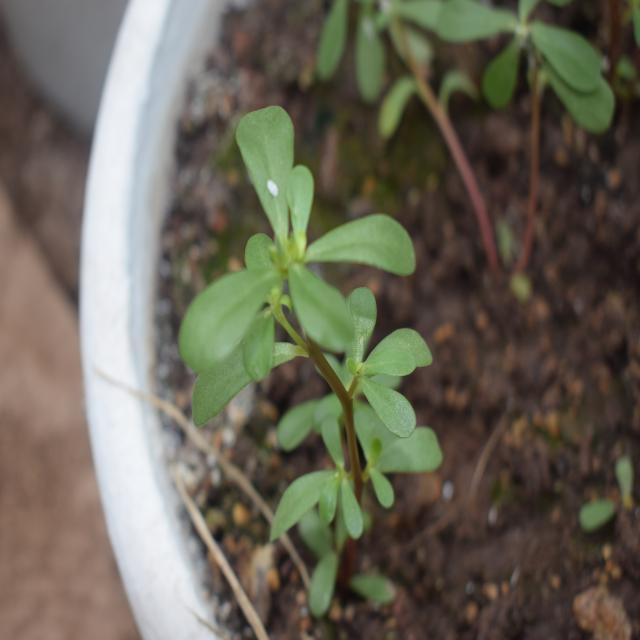purslane: (172, 95, 459, 554)
